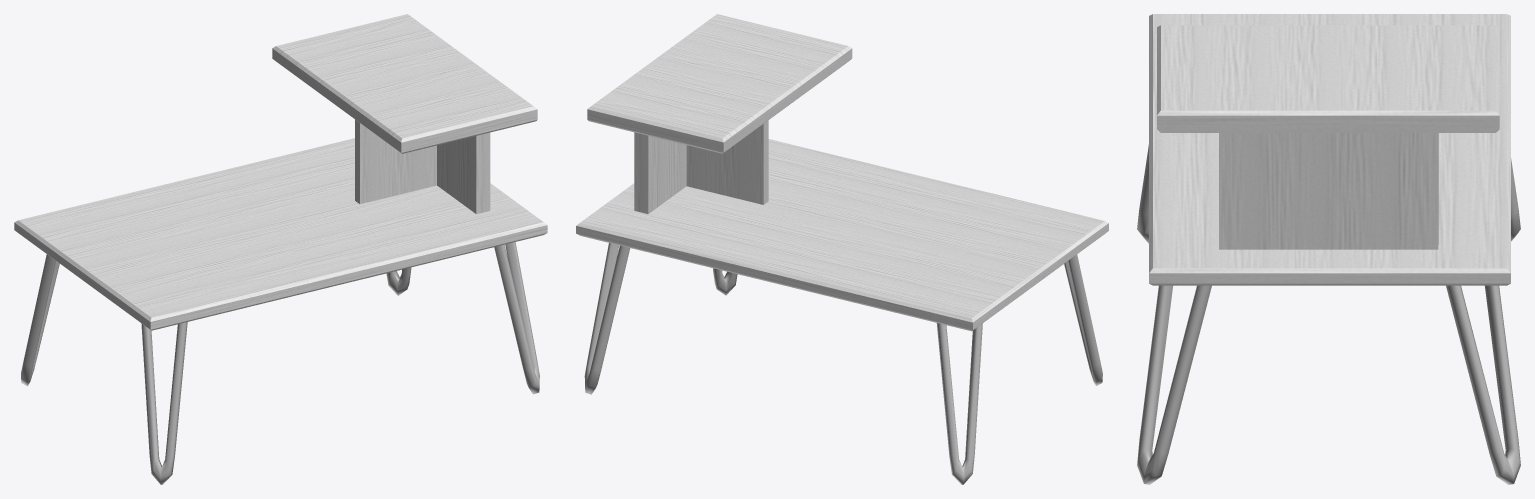
The model's file is End_Table_02.FBX.
3 renders of one model, left to right at view 1: azimuth 30°, elevation 25°; view 2: azimuth 150°, elevation 25°; view 3: azimuth 270°, elevation 25°, orthographic. The views are drawn at different scales.
Visible parts, largest first — view 1: End_Table; view 2: End_Table; view 3: End_Table.
Part boxes in pixels (x1=…): End_Table: x1=14, y1=14, x2=547, y2=484; End_Table: x1=576, y1=14, x2=1108, y2=484; End_Table: x1=1137, y1=14, x2=1520, y2=484.
Bounding box in the file's own units: 160 × 109 × 101.
